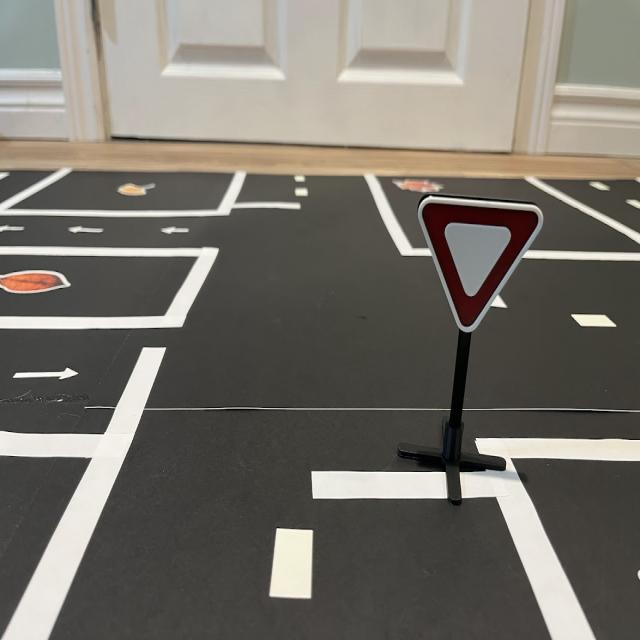road_oneway: (8, 361, 85, 386), (159, 222, 195, 240), (66, 224, 109, 238), (1, 222, 28, 235)
sign_yield: (418, 197, 545, 335)
